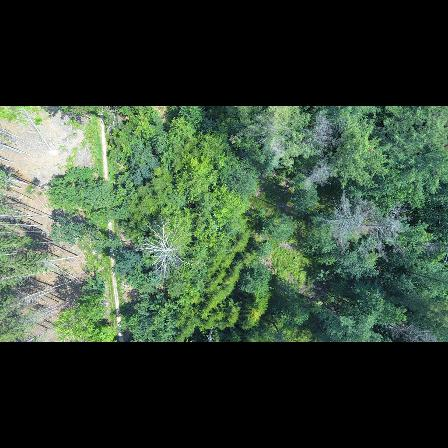Dead: (136, 220, 197, 285), (360, 206, 406, 250), (290, 155, 336, 191), (299, 111, 340, 151), (323, 200, 357, 242)
